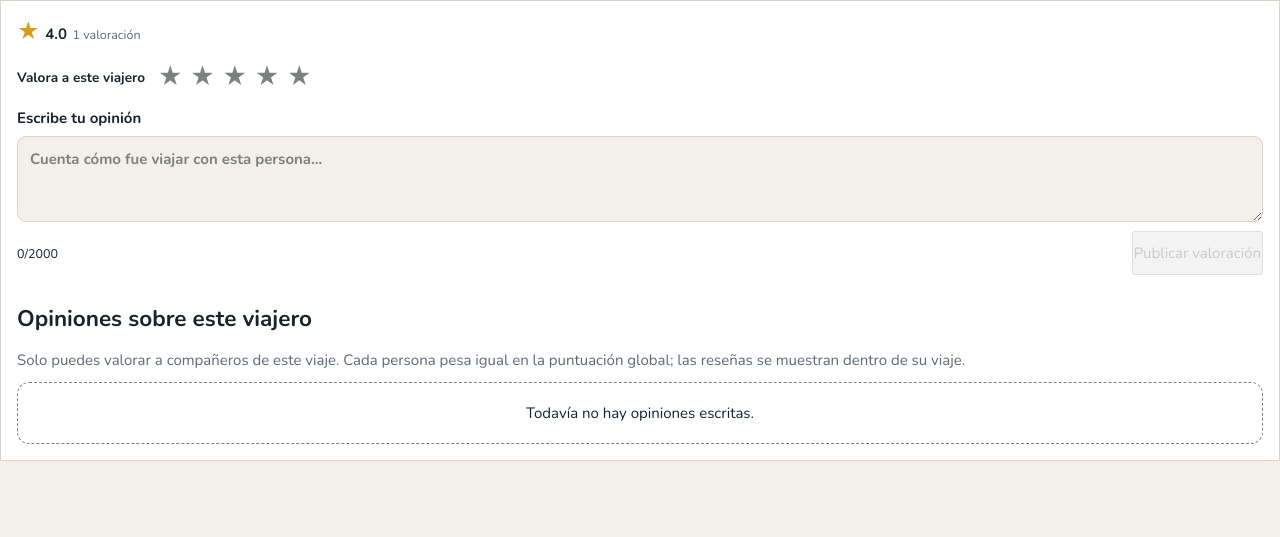
Scenario: keeps the draft when saving fails and displays an error
Click the button named "5 estrellas" at (299, 77), box [284, 59, 314, 96]
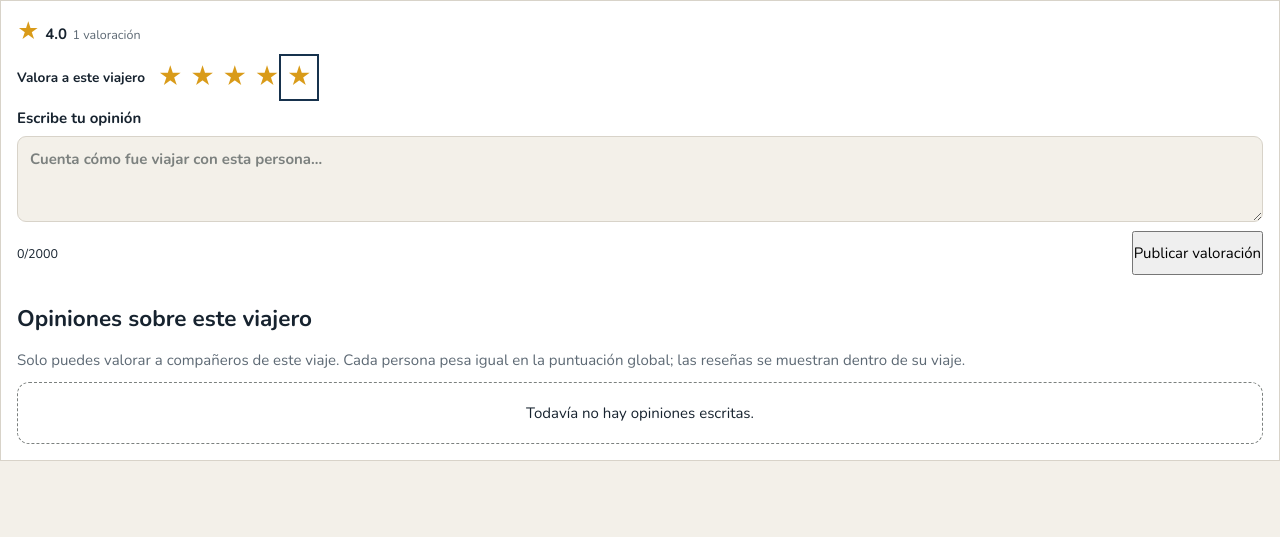
Type "Gran compañera" into the text box at (640, 179), box [17, 136, 1263, 222]
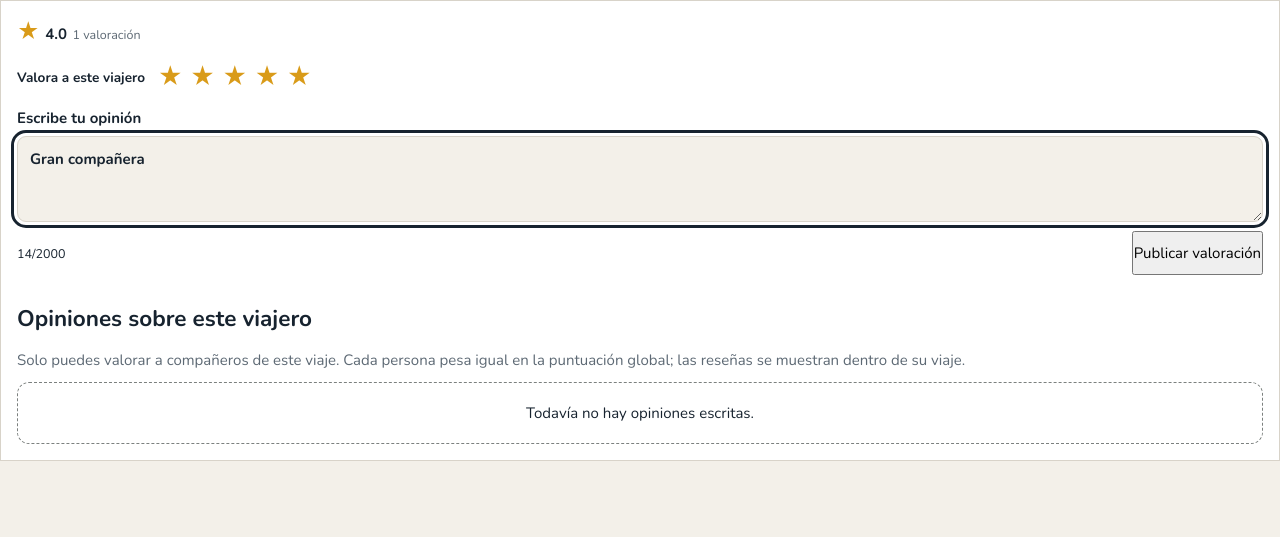
Click the button "Publicar valoración" at (1197, 253), box [1132, 231, 1263, 275]
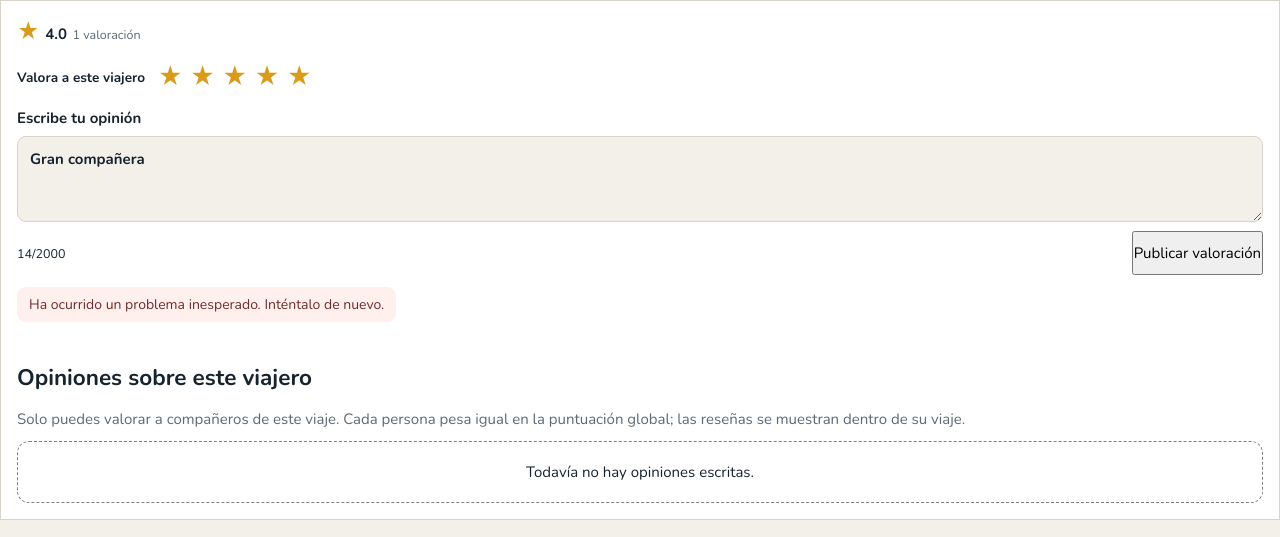
Now the message "Ha ocurrido un problema inesperado. Inténtalo de nuevo." is shown, box [17, 287, 396, 322]
